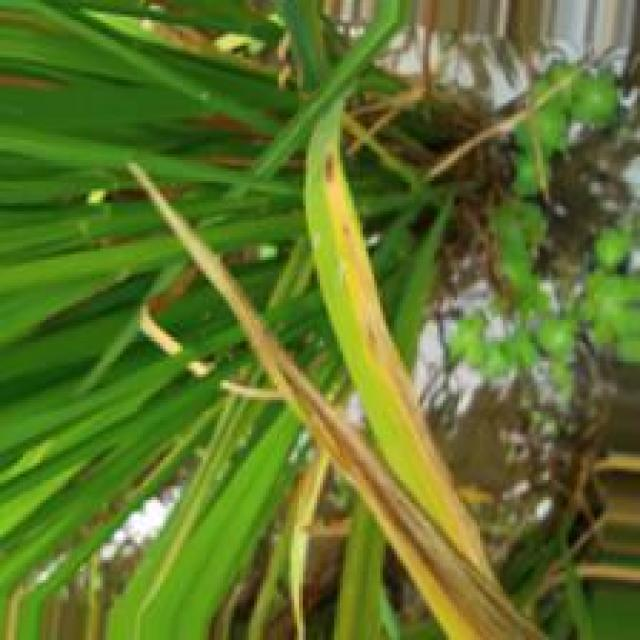Rice False Smut: (261, 327, 544, 640), (321, 147, 475, 529)
